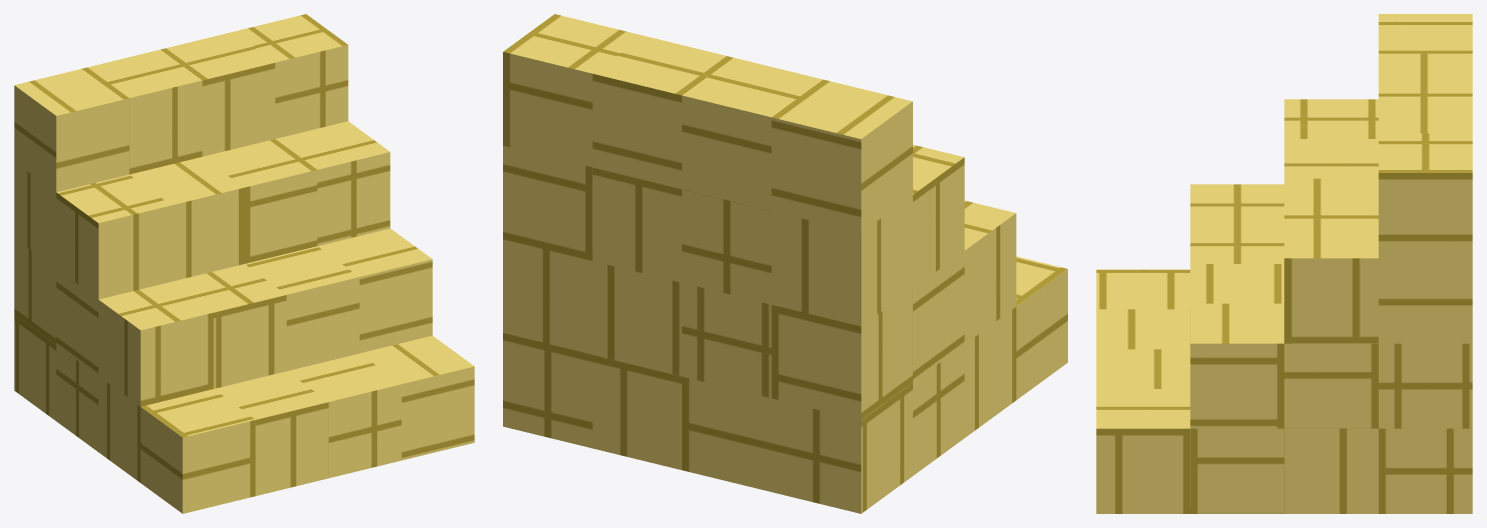
File: step.obj
The picture shows the model from 3 angles, left to right: view 1: azimuth 30°, elevation 25°; view 2: azimuth 150°, elevation 25°; view 3: azimuth 270°, elevation 25°; orthographic projection. The views are drawn at different scales.
Parts seen in each view (by area): view 1: step_Cube.007; view 2: step_Cube.007; view 3: step_Cube.007.
Boxes of the visible parts, x1=… form: step_Cube.007: x1=14, y1=14, x2=474, y2=513; step_Cube.007: x1=503, y1=14, x2=1067, y2=513; step_Cube.007: x1=1096, y1=14, x2=1472, y2=513.
Bounding box in the file's own units: 2 × 2 × 2.
